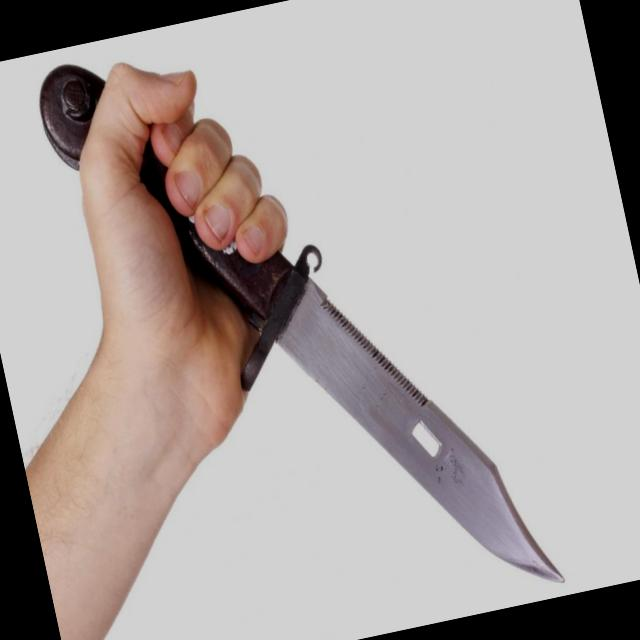knife: (142, 90, 574, 639)
